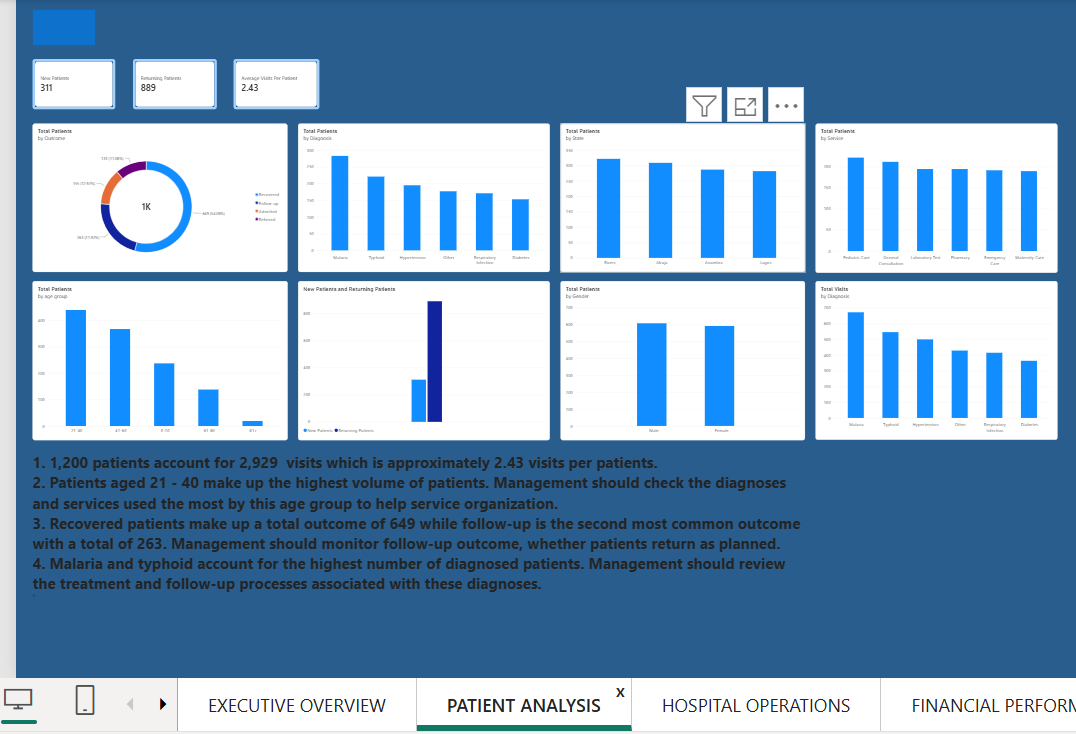

Layout of this report page (visuals, bound fields, positions):
{"tool":"powerbi","page":{"name":"PATIENT ANALYSIS","canvas":[3840,2160],"ordinal":1},"visuals":[{"type":"clusteredColumnChart","fields":{"Category":["Patient_Visits.Diagnosis"],"Y":["Patient_Visits.Total Patients"]},"box":[898.8,395.7,801.5,472.9],"z":0},{"type":"clusteredColumnChart","fields":{"Category":["Patient_Visits.State"],"Y":["Patient_Visits.Total Patients"]},"box":[1733.9,395.7,778.1,472.9],"z":1000},{"type":"clusteredColumnChart","fields":{"Category":["Patient_Visits.Gender"],"Y":["Patient_Visits.Total Patients"]},"box":[1733.9,895.4,778.1,506.4],"z":2000},{"type":"cardVisual","fields":{"Data":["Patient_Visits.Average Visits Per Patient"]},"box":[690,190,273.3,160],"z":3000},{"type":"donutChart","fields":{"Category":["Patient_Visits.Outcome"],"Y":["Patient_Visits.Total Patients"]},"box":[53.7,395.7,811.6,472.9],"z":4000},{"type":"cardVisual","fields":{"Data":["Patient_Visits.New Patients"]},"box":[53.3,190,263.3,160],"z":5000},{"type":"cardVisual","fields":{"Data":["Patient_Visits.Returning Patients"]},"box":[370,190,266.7,160],"z":6000},{"type":"clusteredColumnChart","fields":{"Y":["Patient_Visits.New Patients","Patient_Visits.Returning Patients"]},"box":[898.8,895.4,801.5,506.4],"z":7000},{"type":"clusteredColumnChart","fields":{"Category":["Patient_Visits.age group"],"Y":["Patient_Visits.Total Patients"]},"box":[53.3,895,811.7,506.7],"z":8000},{"type":"actionButton","box":[53.3,33.3,200.4,114.5],"z":8001},{"type":"textbox","box":[52.2,1438.9,2457.8,677.8],"z":8002},{"type":"clusteredColumnChart","fields":{"Category":["Patient_Visits.Service"],"Y":["Patient_Visits.Total Patients"]},"box":[2545,395,770,475],"z":8003},{"type":"clusteredColumnChart","fields":{"Category":["Patient_Visits.Diagnosis"],"Y":["Patient_Visits.Total Visits"]},"box":[2545,895,770,505],"z":8004}]}

Visuals, with their boxes on the page's 3840x2160 design canvas (x1, y1, x2, y2). These are canvas units, not pixel positions in the 1076x734 screenshot, which may show the page scaled, cropped or inside an application window:
clusteredColumnChart - Patient_Visits.Diagnosis x Patient_Visits.Total Patients: crop(899, 396, 1700, 869)
clusteredColumnChart - Patient_Visits.State x Patient_Visits.Total Patients: crop(1734, 396, 2512, 869)
clusteredColumnChart - Patient_Visits.Gender x Patient_Visits.Total Patients: crop(1734, 895, 2512, 1402)
cardVisual - Patient_Visits.Average Visits Per Patient: crop(690, 190, 963, 350)
donutChart - Patient_Visits.Outcome x Patient_Visits.Total Patients: crop(54, 396, 865, 869)
cardVisual - Patient_Visits.New Patients: crop(53, 190, 317, 350)
cardVisual - Patient_Visits.Returning Patients: crop(370, 190, 637, 350)
clusteredColumnChart - Patient_Visits.New Patients x Patient_Visits.Returning Patients: crop(899, 895, 1700, 1402)
clusteredColumnChart - Patient_Visits.age group x Patient_Visits.Total Patients: crop(53, 895, 865, 1402)
actionButton: crop(53, 33, 254, 148)
textbox: crop(52, 1439, 2510, 2117)
clusteredColumnChart - Patient_Visits.Service x Patient_Visits.Total Patients: crop(2545, 395, 3315, 870)
clusteredColumnChart - Patient_Visits.Diagnosis x Patient_Visits.Total Visits: crop(2545, 895, 3315, 1400)
